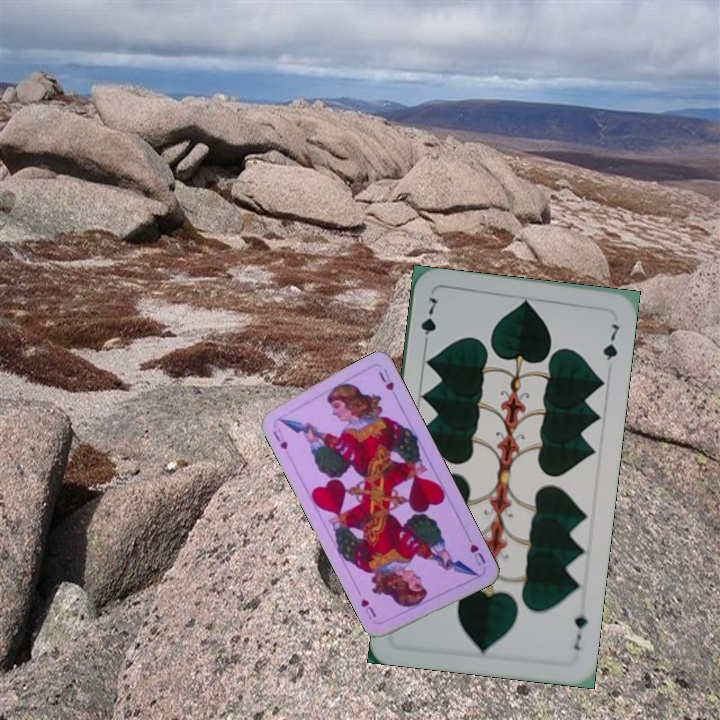G7: (416, 294, 440, 351), (569, 610, 591, 653)
HU: (463, 532, 488, 569), (269, 427, 290, 453)
